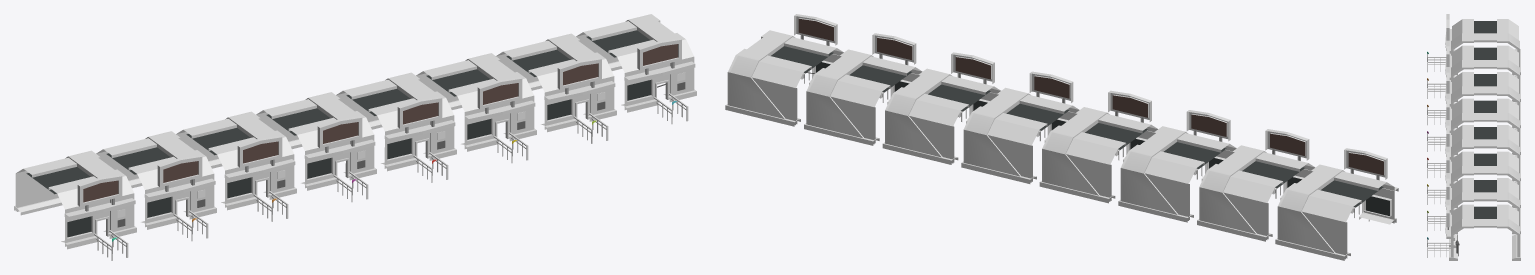
Rendered from chezhan.FBX.
The picture shows the model from 3 angles, left to right: view 1: azimuth 30°, elevation 25°; view 2: azimuth 150°, elevation 25°; view 3: azimuth 270°, elevation 25°; orthographic projection. The views are drawn at different scales.
Visible parts, largest first — view 1: chezhan; view 2: chezhan; view 3: chezhan.
Boxes of the visible parts, x1,y1,x2,y2 form: chezhan: [14, 14, 696, 260]; chezhan: [725, 14, 1398, 260]; chezhan: [1427, 14, 1520, 260].
Size of the model in its own units: 11774 by 1269 by 2239.
